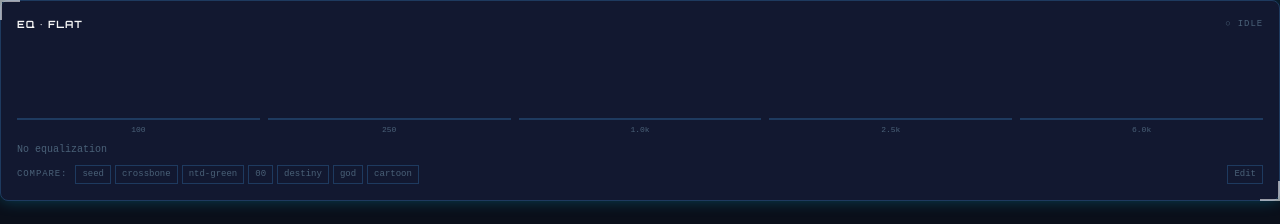
Test: CockpitEqCard A/B compare (Sprint 62 A-A3) › clicking a theme chip enters A/B state with a countdown
The image size is (1280, 224).
Click the button with test id "eq-compare-gundam-seed".
click(93, 174)  # box [75,164,111,184]
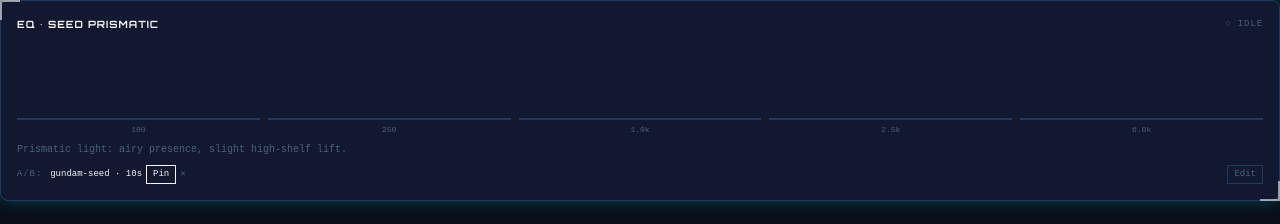
Now the text with test id "eq-compare-countdown" reads "gundam-seed · 10s", box [50,168,142,181]
